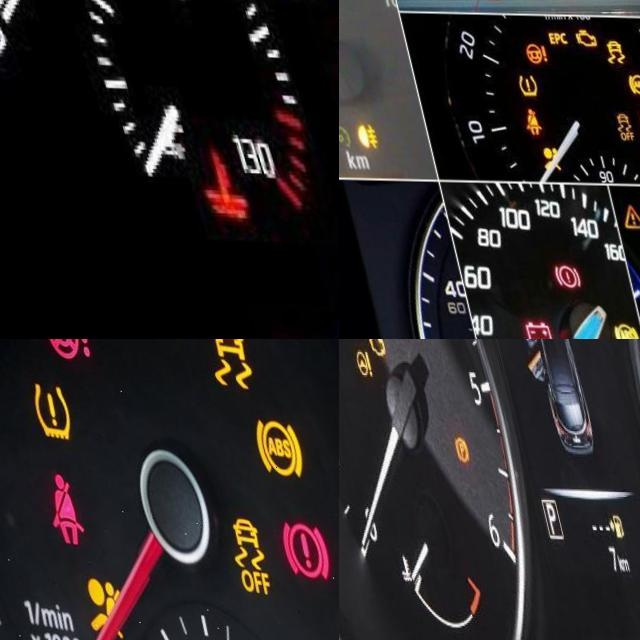Electronic Power Steering: (339, 348, 362, 378), (515, 40, 539, 62)
Electronic Power Steering Warning: (27, 339, 81, 360)
High Engine Coolant Temperature: (164, 144, 231, 218)
Seat Belt: (510, 107, 528, 132)
